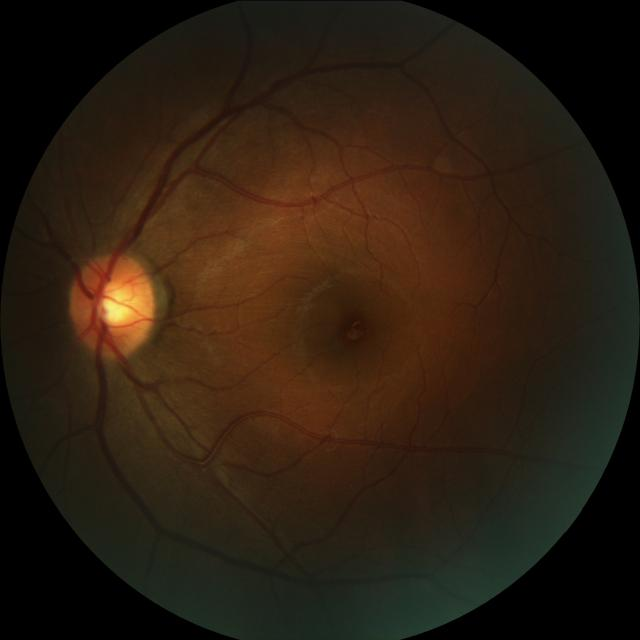OC: (92, 276, 142, 330)
OD: (67, 249, 155, 358)
